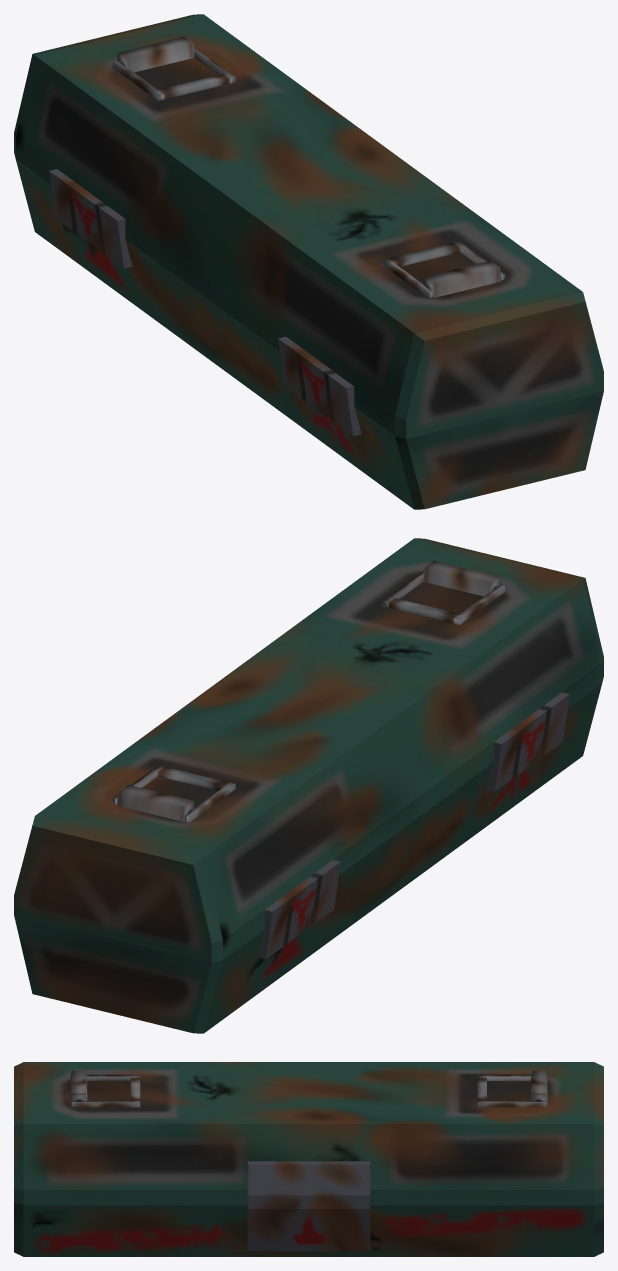
The picture shows the model from 3 angles, top to bottom: view 1: azimuth 30°, elevation 25°; view 2: azimuth 150°, elevation 25°; view 3: azimuth 270°, elevation 25°; orthographic projection. The views are drawn at different scales.
Visible parts, largest first — view 1: pCube9; view 2: pCube9; view 3: pCube9.
Boxes of the visible parts, <box> form: pCube9: <box>14,14,603,509</box>; pCube9: <box>14,538,603,1033</box>; pCube9: <box>14,1062,603,1256</box>.
Size of the model in its own units: 1.62 by 1.29 by 4.82.
